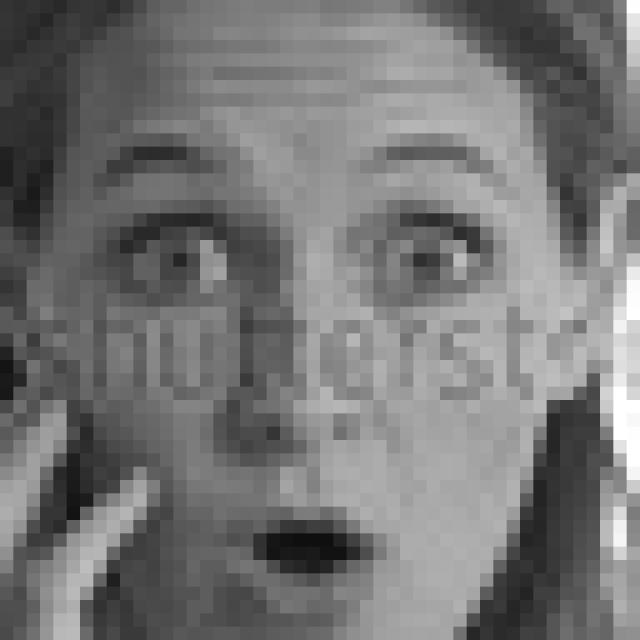surprise: (99, 131, 524, 640)
